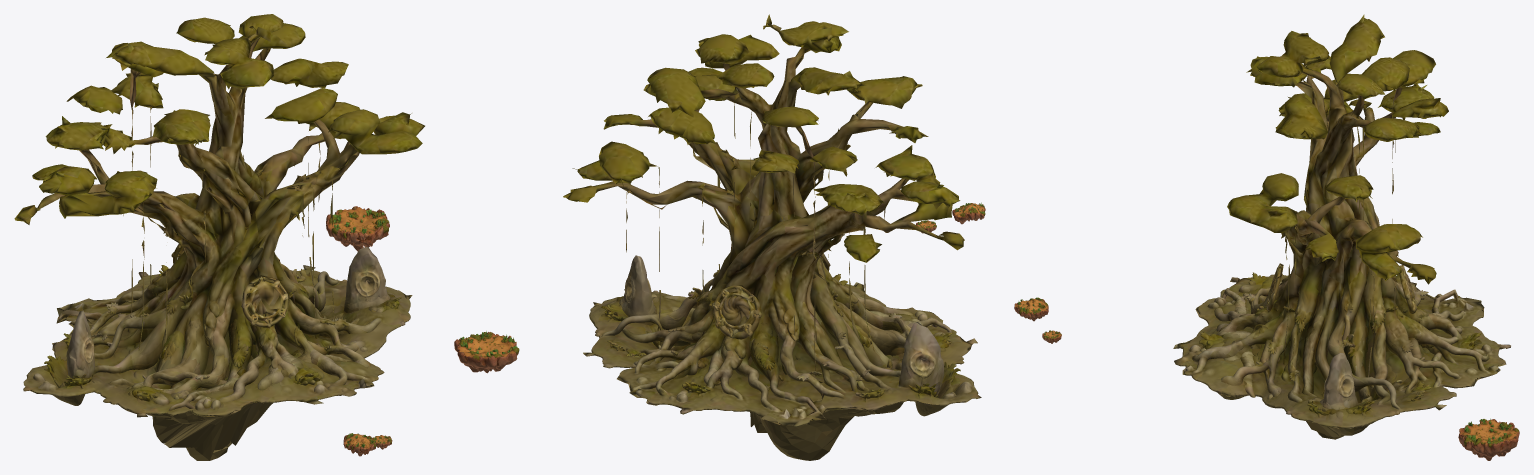
File: 02-ancient-tree.glb
The picture shows the model from 3 angles, left to right: view 1: azimuth 30°, elevation 25°; view 2: azimuth 150°, elevation 25°; view 3: azimuth 270°, elevation 25°; orthographic projection. The views are drawn at different scales.
Parts seen in each view (by area): view 1: tripo_node_1417d2f9-6a41-4c19-8d22-cc2a3ca2383e, tripo_node_7f0ab475-0fcf-4e6c-9da8-ec6ed68006bb.001, tripo_node_7f0ab475-0fcf-4e6c-9da8-ec6ed68006bb.002; view 2: tripo_node_1417d2f9-6a41-4c19-8d22-cc2a3ca2383e, tripo_node_7f0ab475-0fcf-4e6c-9da8-ec6ed68006bb.001; view 3: tripo_node_1417d2f9-6a41-4c19-8d22-cc2a3ca2383e, tripo_node_7f0ab475-0fcf-4e6c-9da8-ec6ed68006bb.001, tripo_node_7f0ab475-0fcf-4e6c-9da8-ec6ed68006bb.002.
Boxes of the visible parts, bbox=[...] form: tripo_node_1417d2f9-6a41-4c19-8d22-cc2a3ca2383e: bbox=[14, 14, 424, 460]; tripo_node_7f0ab475-0fcf-4e6c-9da8-ec6ed68006bb.001: bbox=[326, 206, 389, 251]; tripo_node_7f0ab475-0fcf-4e6c-9da8-ec6ed68006bb.002: bbox=[343, 433, 376, 456]; tripo_node_1417d2f9-6a41-4c19-8d22-cc2a3ca2383e: bbox=[563, 14, 981, 460]; tripo_node_7f0ab475-0fcf-4e6c-9da8-ec6ed68006bb.001: bbox=[454, 331, 519, 373]; tripo_node_1417d2f9-6a41-4c19-8d22-cc2a3ca2383e: bbox=[1173, 14, 1510, 439]; tripo_node_7f0ab475-0fcf-4e6c-9da8-ec6ed68006bb.001: bbox=[1458, 418, 1519, 460]; tripo_node_7f0ab475-0fcf-4e6c-9da8-ec6ed68006bb.002: bbox=[1014, 297, 1048, 321].
Bounding box in the file's own units: 1.29 × 1.19 × 1.35.
Materials: 2 (2 with a texture image).
